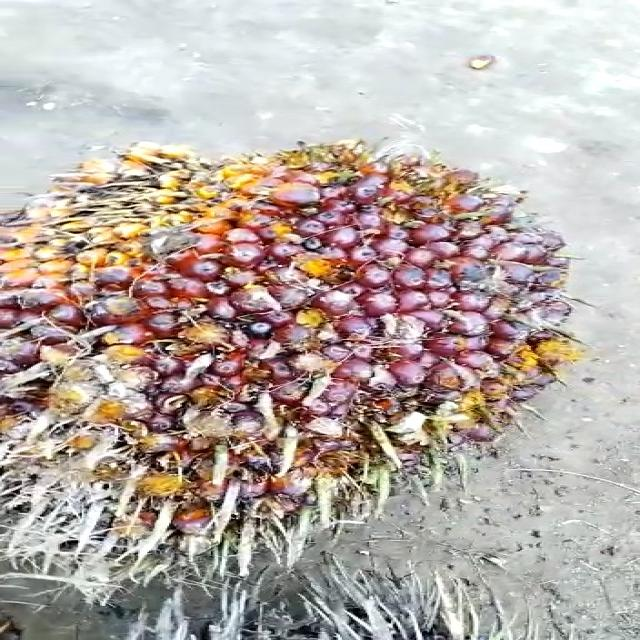palm oil: (0, 141, 585, 551)
